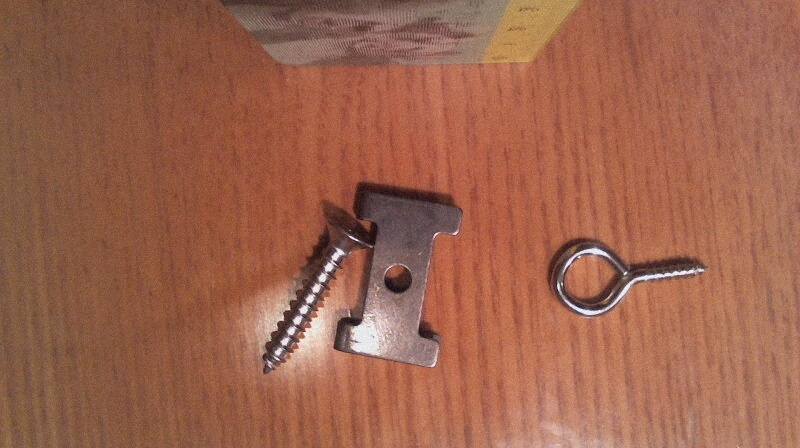O001: (545, 235, 716, 319)
O002: (330, 182, 463, 369)
S001: (259, 206, 376, 376)
